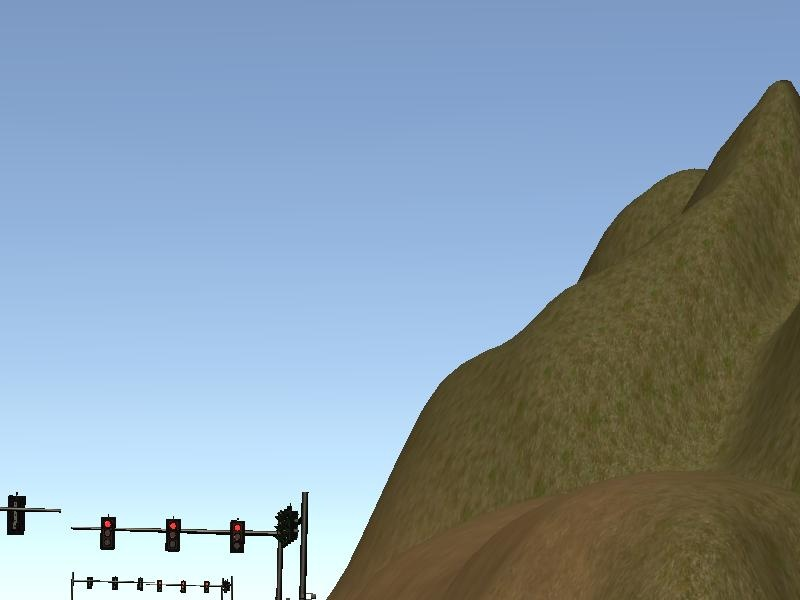red: (101, 516, 116, 551), (166, 518, 181, 553), (231, 520, 246, 555)
